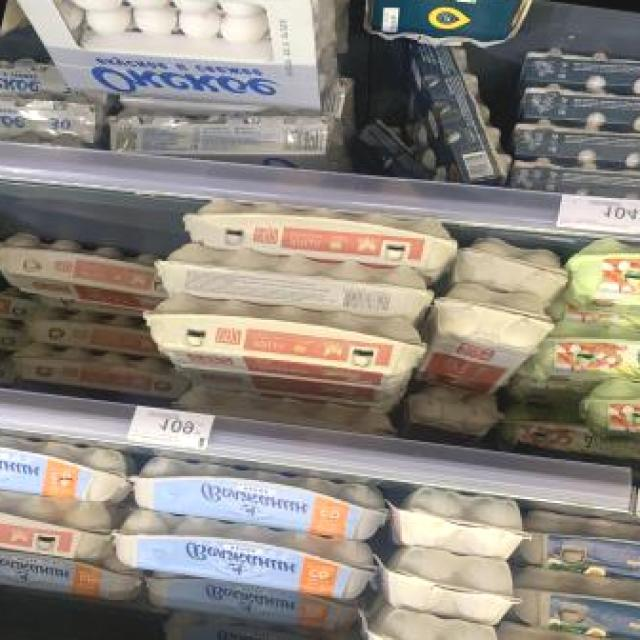egg: (135, 287, 423, 393), (178, 191, 454, 278), (388, 484, 534, 567), (376, 544, 521, 627), (491, 567, 639, 640), (506, 508, 640, 586), (0, 476, 110, 563), (360, 607, 505, 640)
